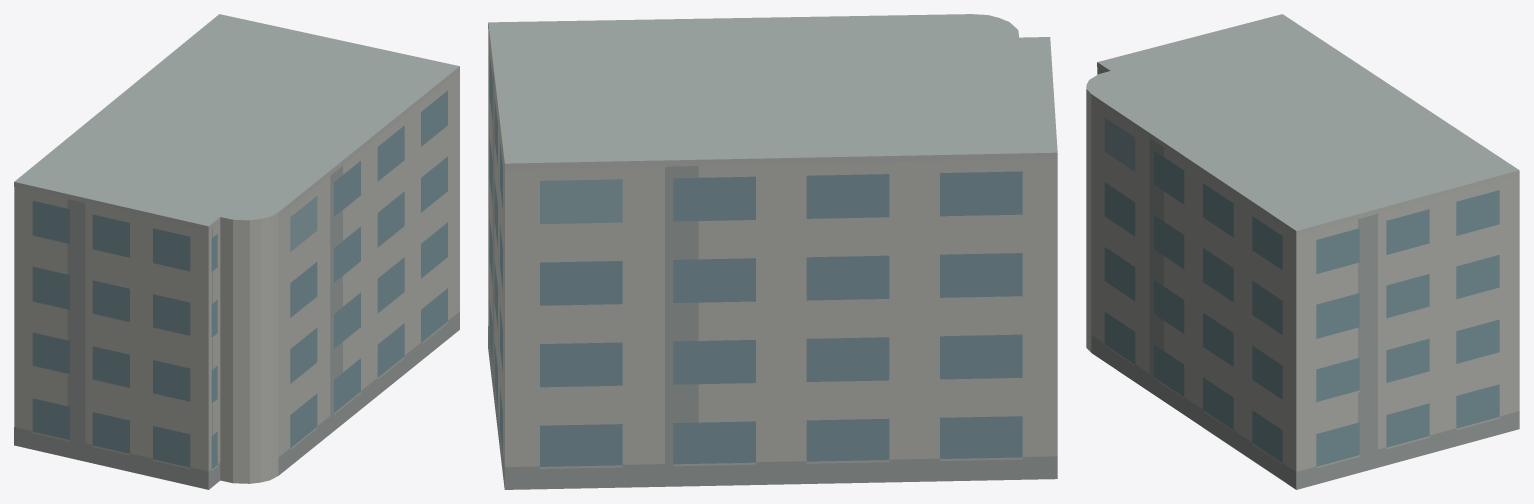
The model's file is residential-fea44064-a0d0-41ff-b456-18682b2eccb2.glb.
3 renders of one model, left to right at view 1: azimuth 30°, elevation 25°; view 2: azimuth 150°, elevation 25°; view 3: azimuth 270°, elevation 25°, orthographic. The views are drawn at different scales.
Visible parts, largest first — view 1: residential-fea44064-a0d0-41ff-b456-18682b2eccb2.tmp; view 2: residential-fea44064-a0d0-41ff-b456-18682b2eccb2.tmp; view 3: residential-fea44064-a0d0-41ff-b456-18682b2eccb2.tmp.
Part boxes in pixels (box(x1,y1,x2,y2)): residential-fea44064-a0d0-41ff-b456-18682b2eccb2.tmp: box(14, 14, 459, 489); residential-fea44064-a0d0-41ff-b456-18682b2eccb2.tmp: box(488, 14, 1057, 489); residential-fea44064-a0d0-41ff-b456-18682b2eccb2.tmp: box(1086, 14, 1519, 489).
Bounding box in the file's own units: 23.02 × 12.8 × 19.42.
